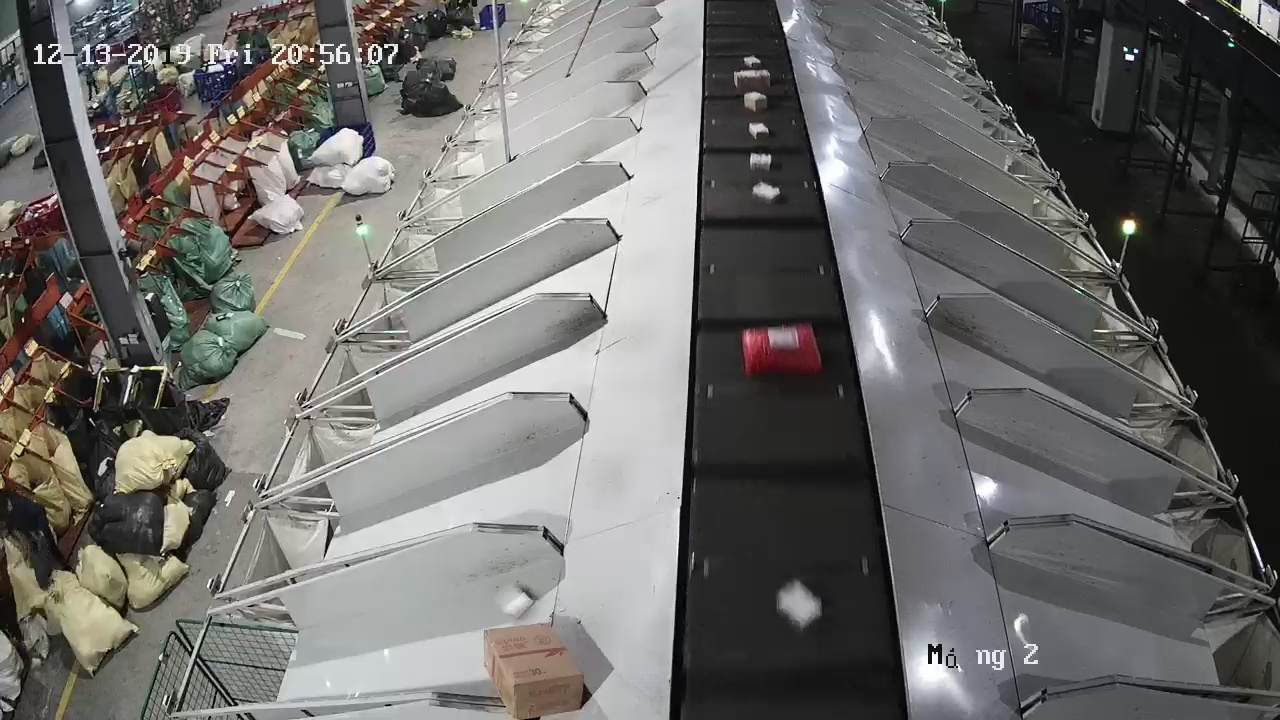parcel: (492, 582, 537, 620)
